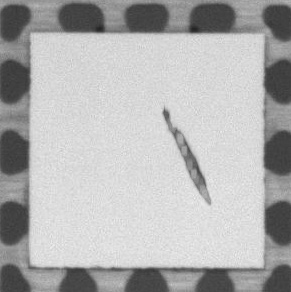DIE_INK: (155, 95, 213, 216)
